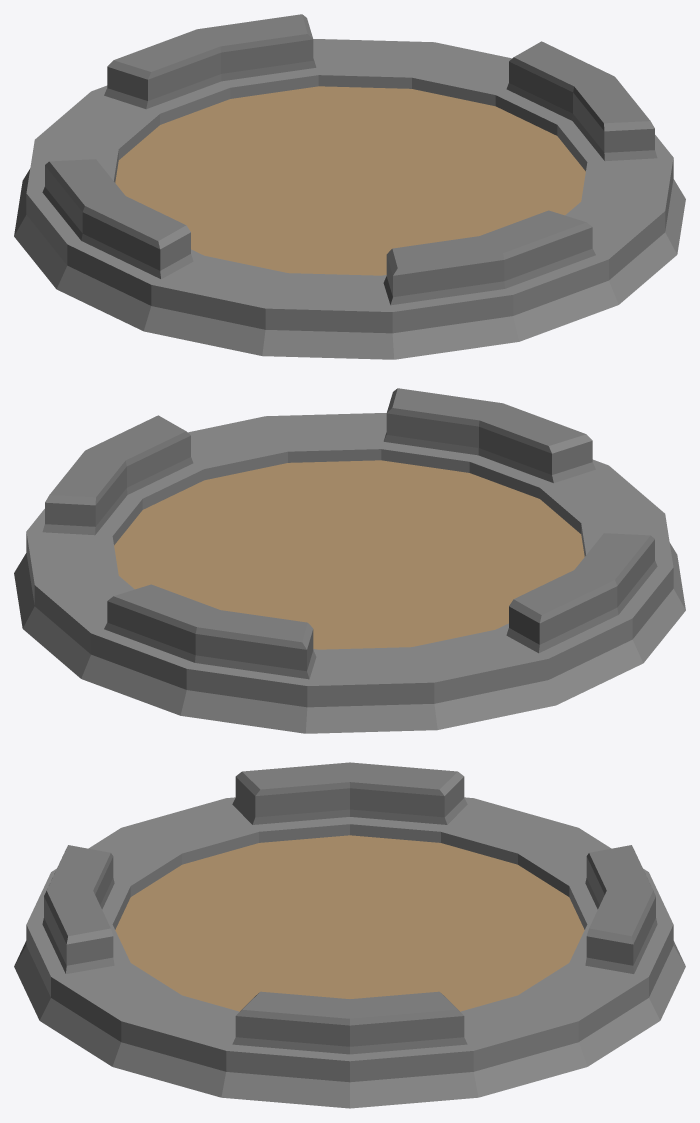
Rendered from TowerPad.fbx.
The picture shows the model from 3 angles, top to bottom: view 1: azimuth 30°, elevation 25°; view 2: azimuth 150°, elevation 25°; view 3: azimuth 270°, elevation 25°; orthographic projection.
Visible parts, largest first — view 1: Towerpad; view 2: Towerpad; view 3: Towerpad.
Part boxes in pixels (x1,y1,x2,y2): Towerpad: (14, 14, 685, 359); Towerpad: (14, 388, 685, 733); Towerpad: (14, 762, 685, 1108).
Bounding box in the file's own units: 2.99 × 0.3726 × 2.99.
